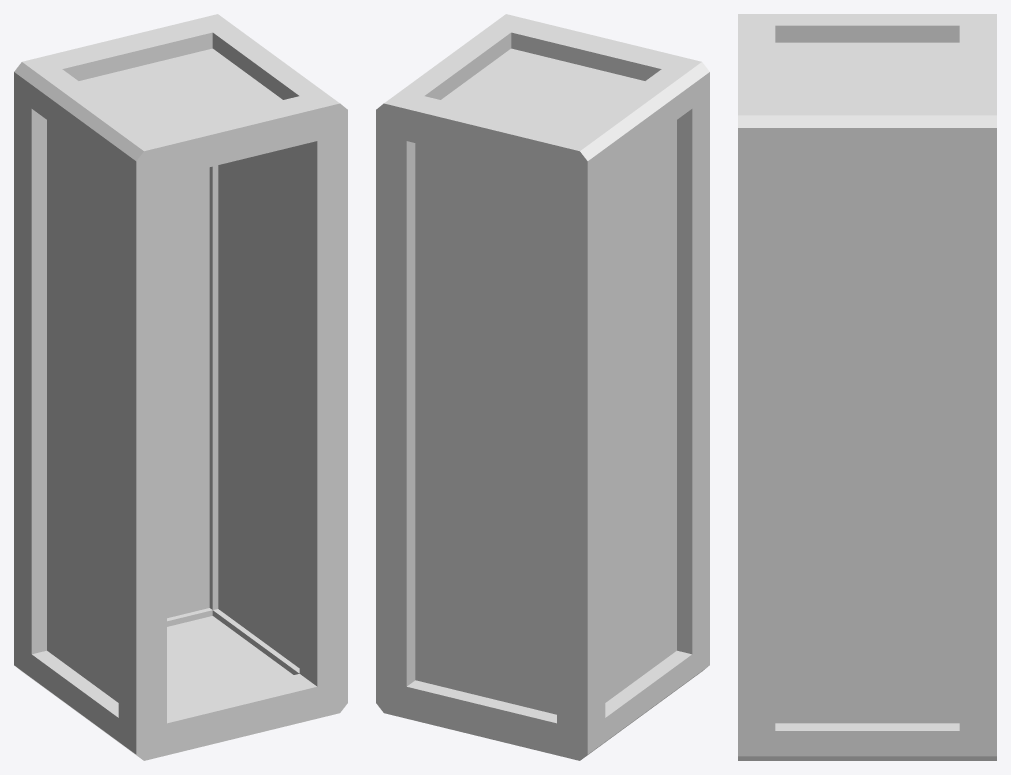
File: Cont_Locker.fbx
The picture shows the model from 3 angles, left to right: view 1: azimuth 30°, elevation 25°; view 2: azimuth 150°, elevation 25°; view 3: azimuth 270°, elevation 25°; orthographic projection. The views are drawn at different scales.
Parts seen in each view (by area): view 1: Cont_Locker; view 2: Cont_Locker; view 3: Cont_Locker.
Boxes of the visible parts, left/top/right/bottom form: Cont_Locker: left=14, top=14, right=347, bottom=760; Cont_Locker: left=376, top=14, right=709, bottom=760; Cont_Locker: left=738, top=14, right=996, bottom=760.
Bounding box in the file's own units: 0.7266 × 2 × 0.7266.
